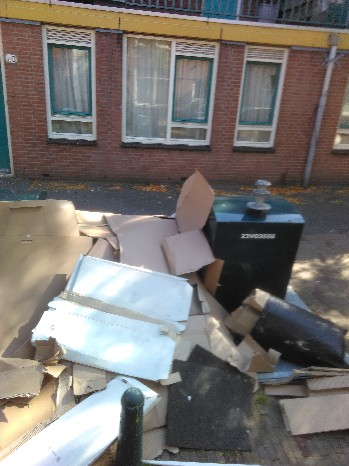Container: (198, 179, 313, 297)
Papier: (46, 255, 231, 388), (2, 192, 101, 398), (253, 299, 349, 404), (22, 398, 157, 466), (136, 196, 205, 294), (285, 387, 349, 417)
